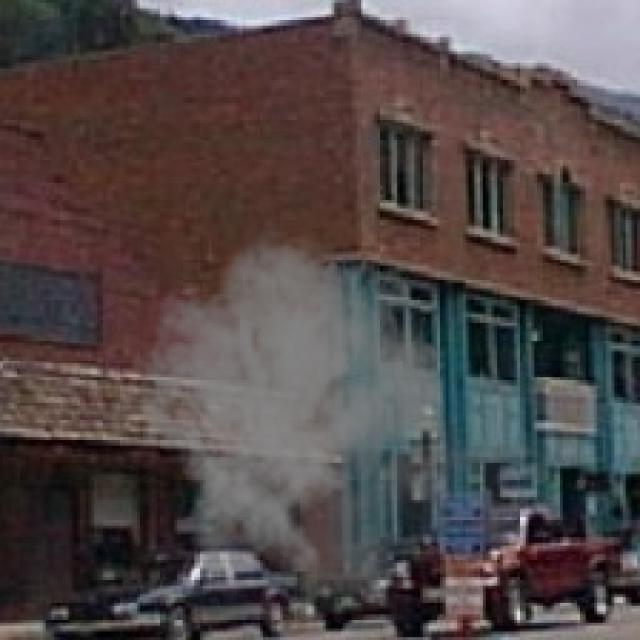smoke: (132, 214, 554, 620)
